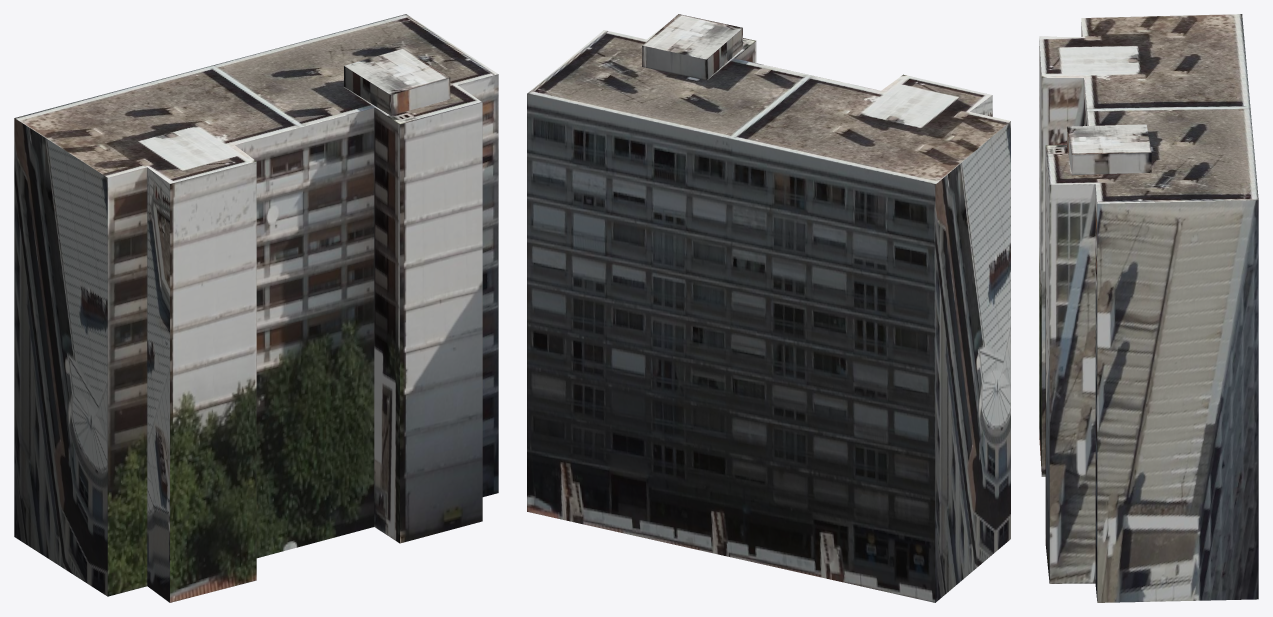
The picture shows the model from 3 angles, left to right: view 1: azimuth 30°, elevation 25°; view 2: azimuth 150°, elevation 25°; view 3: azimuth 270°, elevation 25°; orthographic projection. The views are drawn at different scales.
Parts seen in each view (by area): view 1: Z_UP; view 2: Z_UP; view 3: Z_UP.
Boxes of the visible parts, x1=… form: Z_UP: x1=14, y1=14, x2=498, y2=602; Z_UP: x1=527, y1=14, x2=1010, y2=602; Z_UP: x1=1039, y1=14, x2=1258, y2=602.
Size of the model in its own units: 27.9 by 28.76 by 13.64.
Materials: 2 (1 with a texture image).
